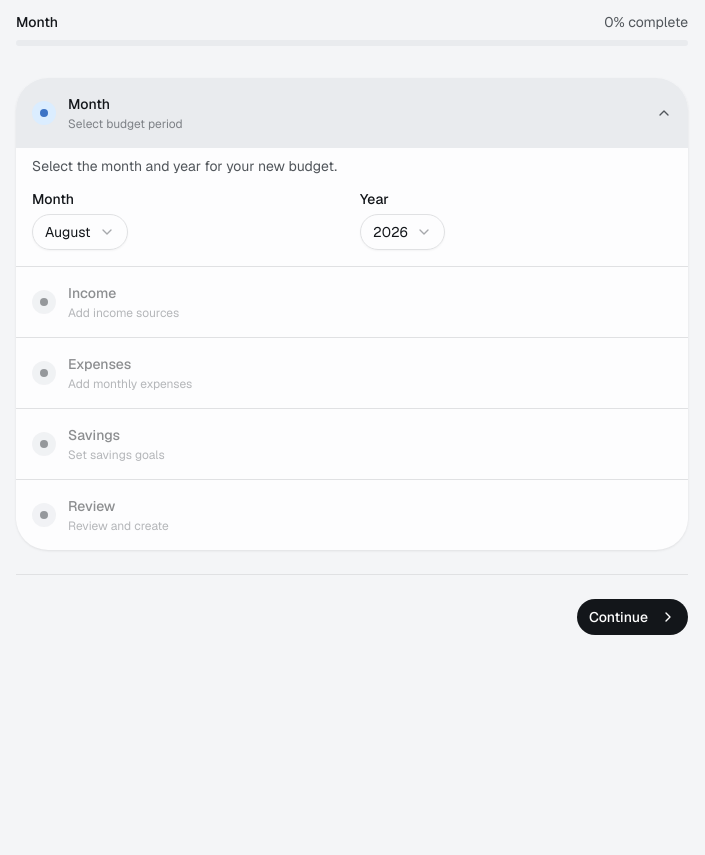
Test: WizardShell › advances to step 2 when Continue clicked with valid month
What coordinates should you click on to do the following:
click the button "Continue"
I would click on:
 (632, 617)
Its box is [577, 599, 688, 635].
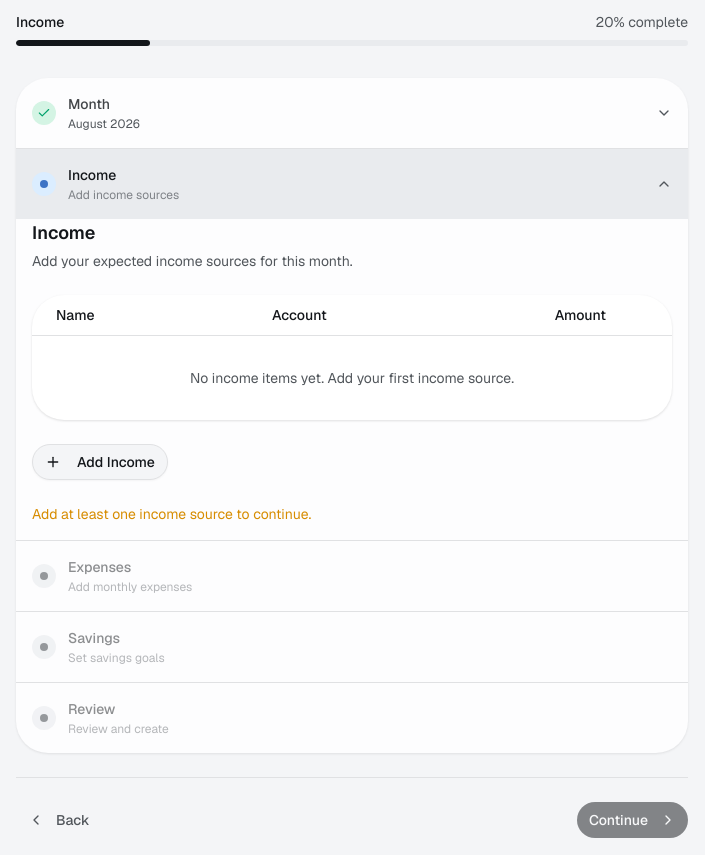
Expected: the text "Add your expected income sources for this month." is shown, [32, 251, 353, 271]
